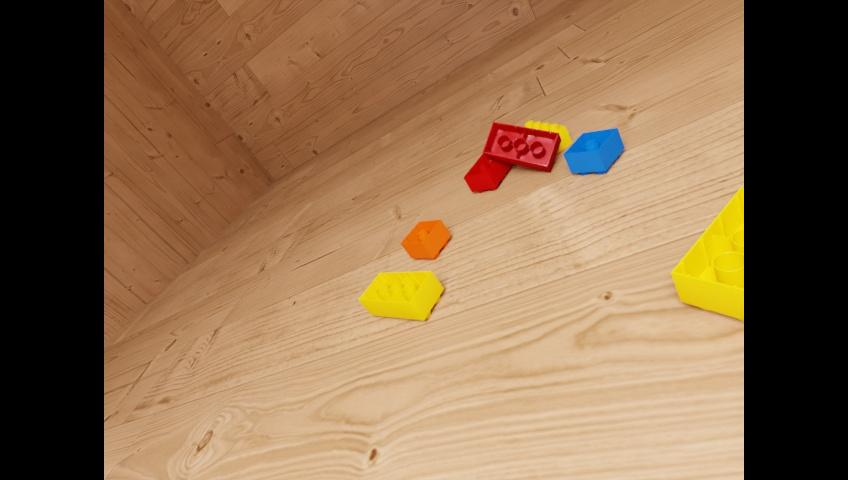2x2_blue: (563, 127, 623, 175)
2x2_orange: (400, 219, 450, 259)
4x2_red: (482, 121, 560, 171), (463, 153, 510, 192)
4x2_yellow: (671, 188, 743, 321), (358, 270, 443, 320), (524, 119, 571, 153)
